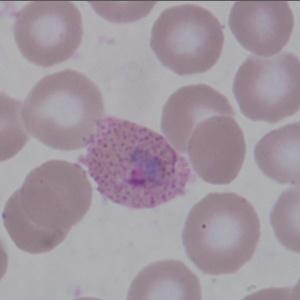Infected: (83, 111, 191, 208)
Uninfected: (185, 192, 261, 276), (23, 72, 102, 147), (150, 6, 222, 77), (22, 158, 92, 228), (163, 83, 235, 149), (233, 53, 300, 123), (15, 0, 85, 66), (1, 190, 69, 257), (192, 113, 247, 189), (231, 0, 292, 56), (124, 259, 201, 300)
